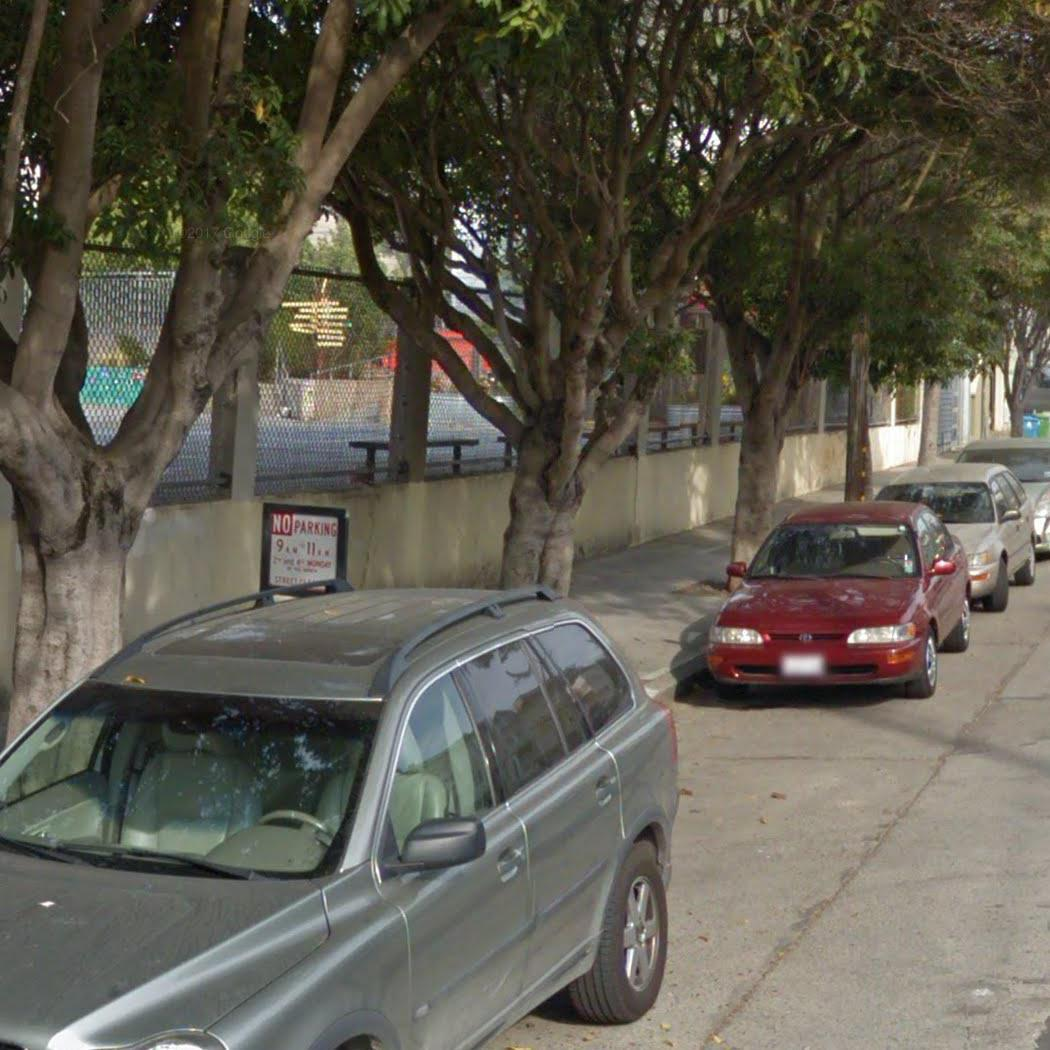No Parking: (267, 504, 342, 592)
